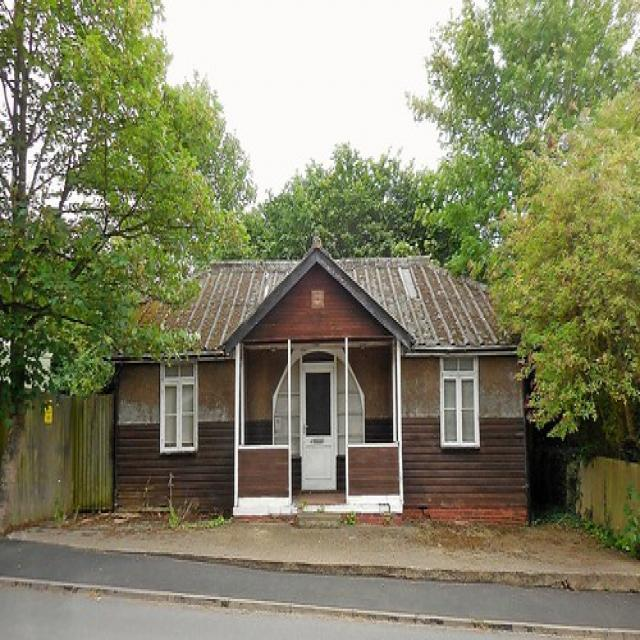Normal_building: (107, 246, 537, 533)
